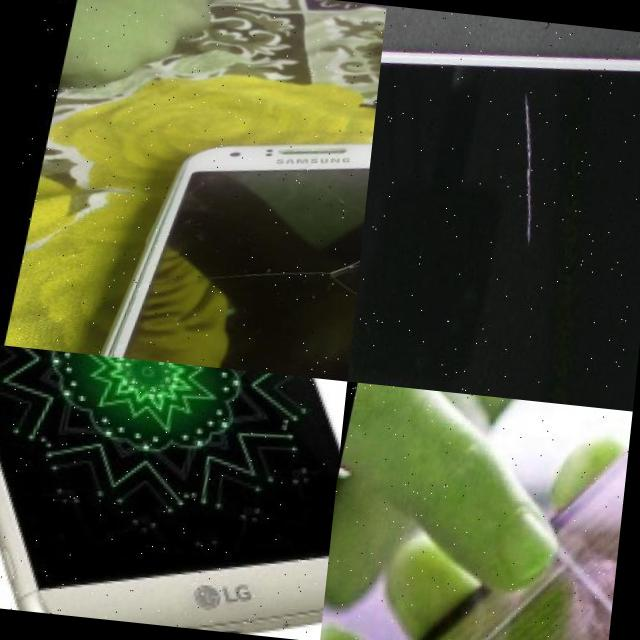scratch: (477, 87, 549, 249)
screen crack: (123, 166, 366, 352)
